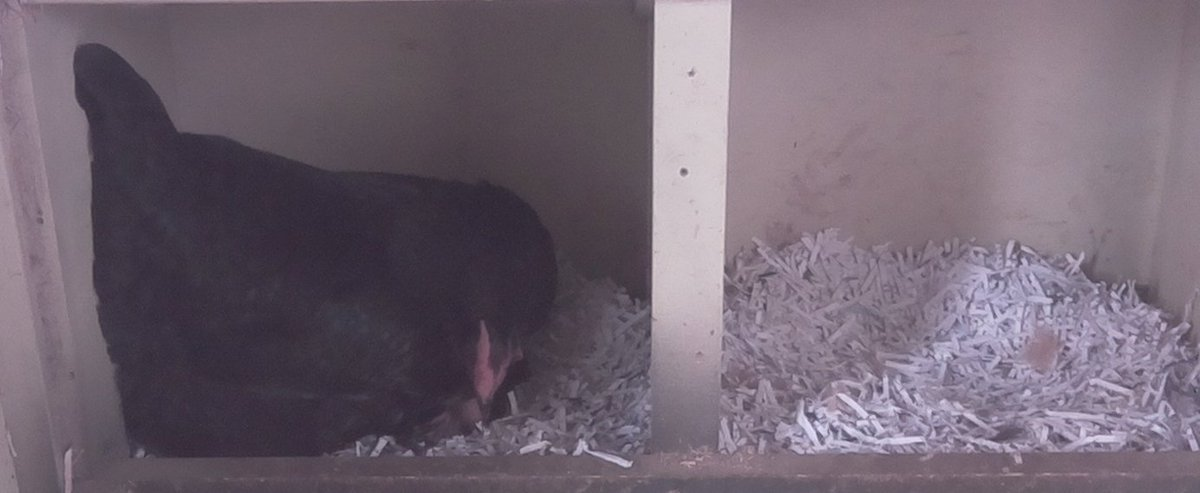hen: (81, 113, 572, 449)
